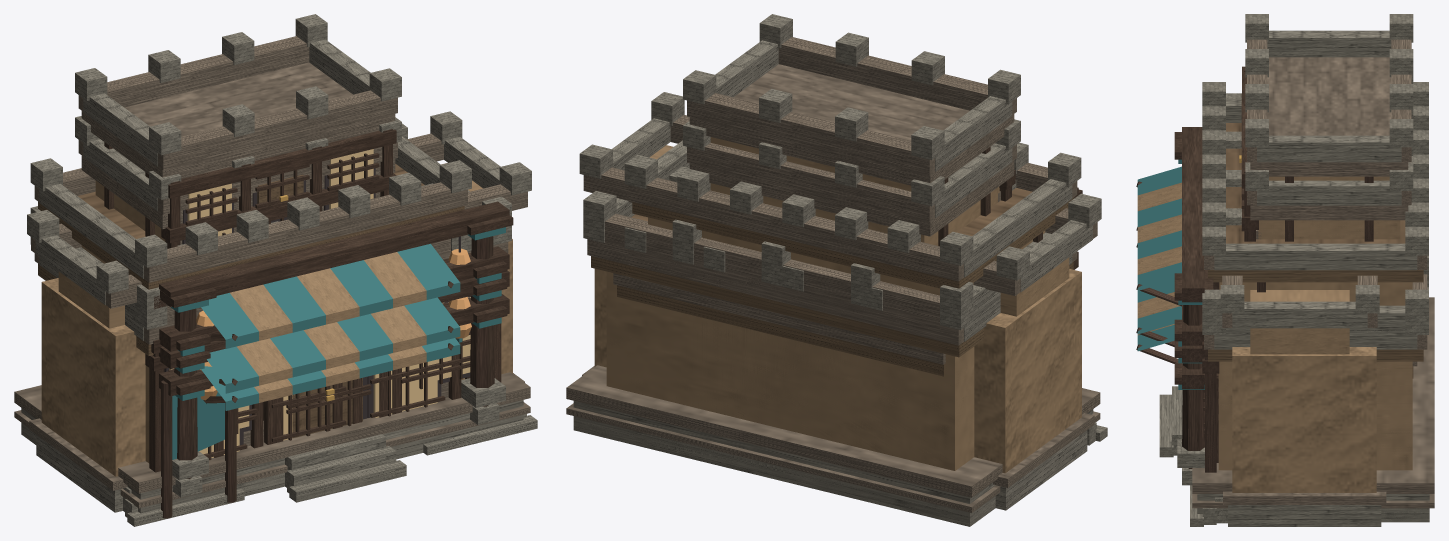
File: regional_caravan.glb
3 renders of one model, left to right at view 1: azimuth 30°, elevation 25°; view 2: azimuth 150°, elevation 25°; view 3: azimuth 270°, elevation 25°, orthographic. The views are drawn at different scales.
Visible parts, largest first — view 1: hall, wing, gate, home, shop, cottage; view 2: hall, home, wing, gate, shop, cottage; view 3: hall, gate, wing, home, cottage.
Boxes of the visible parts, x1,y1,x2,y2 form: hall: (14,14,530,518); wing: (14,116,530,512); gate: (27,111,537,526); home: (30,225,511,471); shop: (148,235,471,460); cottage: (159,294,509,400); hall: (566,14,1100,526); home: (583,218,1078,467); wing: (566,119,1100,526); gate: (579,92,1107,510); shop: (624,219,959,469); cottage: (613,273,945,376); hall: (1136,14,1434,522); gate: (1190,93,1386,526); wing: (1136,77,1434,522); home: (1136,243,1428,472); cottage: (1174,361,1417,462).
Size of the model in its own units: 2.11 by 1.7 by 1.32.
1 material, 1 textured.
